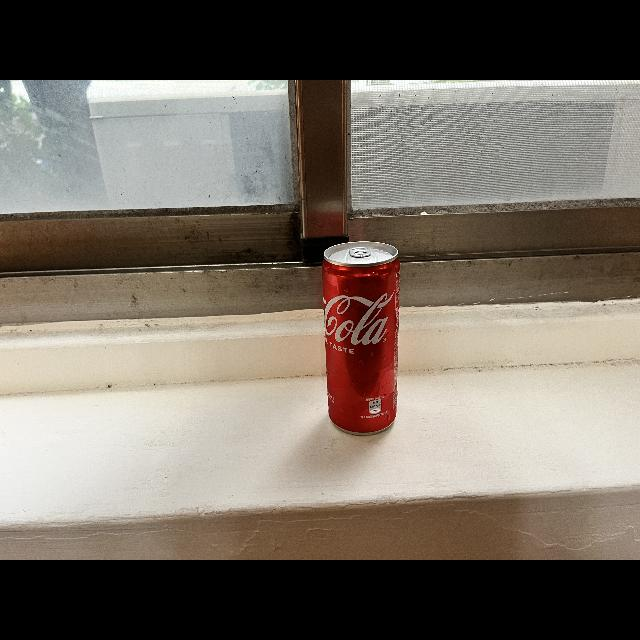can: (319, 237, 406, 443)
